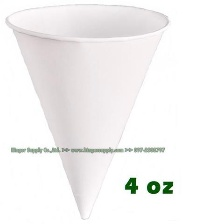paper_cup: (0, 0, 174, 224)
